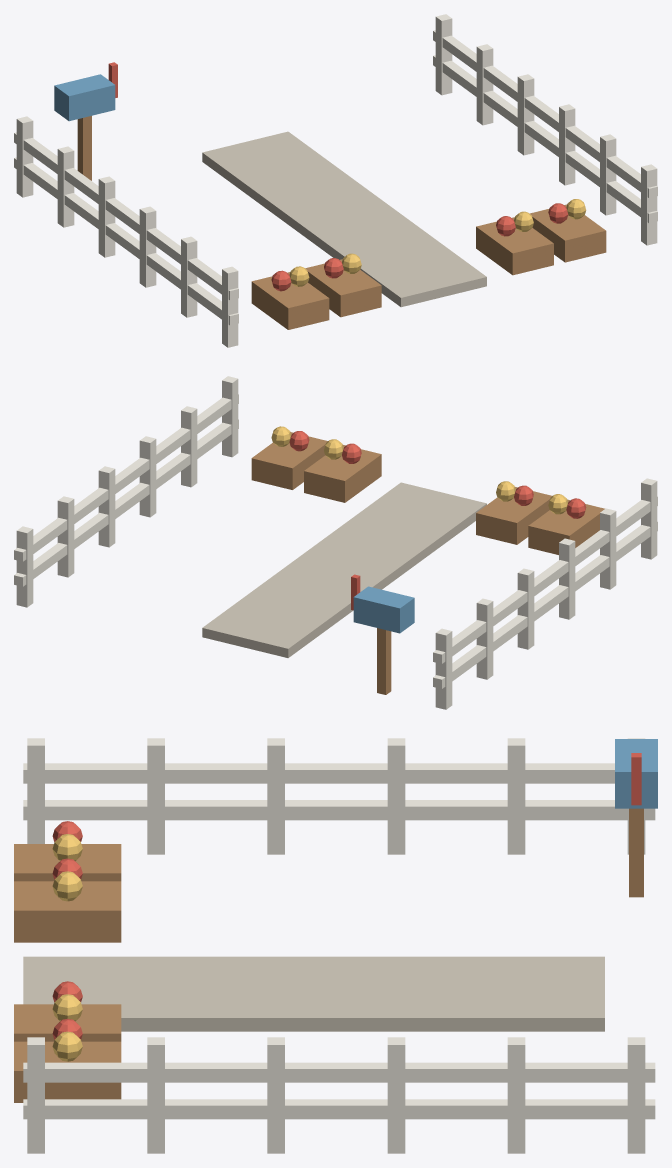
Rendered from cottage-yard-Boh2euFM.glb.
3 renders of one model, top to bottom at view 1: azimuth 30°, elevation 25°; view 2: azimuth 150°, elevation 25°; view 3: azimuth 270°, elevation 25°, orthographic. The views are drawn at different scales.
Parts seen in each view (by area): view 1: Yard_Path, Yard_Fence_Rail_B_-2.8, Yard_Fence_Rail_A_-2.8, Yard_Fence_Rail_A_2.8, Yard_Fence_Rail_B_2.8, Yard_Flowerbed_0, Yard_Flowerbed_2, Yard_Flowerbed_3, Yard_Flowerbed_1, Yard_Mailbox, Yard_Fence_Post_2.8_-2.2, Yard_Fence_Post_-2.8_-2.2 (+11 smaller); view 2: Yard_Path, Yard_Fence_Rail_B_-2.8, Yard_Fence_Rail_A_-2.8, Yard_Fence_Rail_A_2.8, Yard_Fence_Rail_B_2.8, Yard_Flowerbed_2, Yard_Flowerbed_3, Yard_Flowerbed_1, Yard_Flowerbed_0, Yard_Mailbox, Yard_Fence_Post_2.8_2.55, Yard_Fence_Post_-2.8_2.55 (+11 smaller); view 3: Yard_Path, Yard_Fence_Rail_A_2.8, Yard_Fence_Rail_B_2.8, Yard_Fence_Rail_B_-2.8, Yard_Fence_Rail_A_-2.8, Yard_Flowerbed_1, Yard_Flowerbed_3, Yard_Flowerbed_0, Yard_Flowerbed_2, Yard_Mailbox, Yard_Fence_Post_-2.8_0.65, Yard_Fence_Post_-2.8_1.6 (+14 smaller).
Part boxes in pixels (bbox=[...]): Yard_Path: bbox=[202, 131, 486, 307]; Yard_Fence_Rail_B_-2.8: bbox=[14, 157, 238, 325]; Yard_Fence_Rail_A_-2.8: bbox=[14, 132, 238, 300]; Yard_Fence_Rail_A_2.8: bbox=[433, 30, 657, 197]; Yard_Fence_Rail_B_2.8: bbox=[433, 55, 657, 223]; Yard_Flowerbed_0: bbox=[251, 272, 329, 329]; Yard_Flowerbed_2: bbox=[476, 217, 553, 275]; Yard_Flowerbed_3: bbox=[530, 204, 606, 262]; Yard_Flowerbed_1: bbox=[305, 259, 381, 317]; Yard_Mailbox: bbox=[54, 74, 115, 121]; Yard_Fence_Post_2.8_-2.2: bbox=[641, 164, 657, 245]; Yard_Fence_Post_-2.8_-2.2: bbox=[222, 266, 238, 347]; Yard_Path: bbox=[202, 482, 486, 657]; Yard_Fence_Rail_B_-2.8: bbox=[433, 521, 657, 688]; Yard_Fence_Rail_A_-2.8: bbox=[433, 496, 657, 663]; Yard_Fence_Rail_A_2.8: bbox=[14, 394, 238, 561]; Yard_Fence_Rail_B_2.8: bbox=[14, 419, 238, 586]; Yard_Flowerbed_2: bbox=[304, 445, 381, 502]; Yard_Flowerbed_3: bbox=[251, 432, 327, 489]; Yard_Flowerbed_1: bbox=[476, 487, 551, 544]; Yard_Flowerbed_0: bbox=[528, 499, 604, 554]; Yard_Mailbox: bbox=[353, 586, 414, 633]; Yard_Fence_Post_2.8_2.55: bbox=[16, 526, 33, 607]; Yard_Fence_Post_-2.8_2.55: bbox=[435, 628, 452, 709]; Yard_Path: bbox=[23, 956, 604, 1031]; Yard_Fence_Rail_A_2.8: bbox=[23, 1062, 655, 1082]; Yard_Fence_Rail_B_2.8: bbox=[23, 1099, 655, 1119]; Yard_Fence_Rail_B_-2.8: bbox=[23, 800, 655, 820]; Yard_Fence_Rail_A_-2.8: bbox=[23, 763, 614, 783]; Yard_Flowerbed_1: bbox=[14, 881, 121, 942]; Yard_Flowerbed_3: bbox=[14, 1041, 121, 1102]; Yard_Flowerbed_0: bbox=[14, 844, 121, 881]; Yard_Flowerbed_2: bbox=[14, 1004, 121, 1041]; Yard_Mailbox: bbox=[615, 739, 657, 808]; Yard_Fence_Post_-2.8_0.65: bbox=[387, 738, 405, 854]; Yard_Fence_Post_-2.8_1.6: bbox=[507, 738, 525, 854].
Size of the model in its own units: 5.74 by 1.39 by 5.1.
